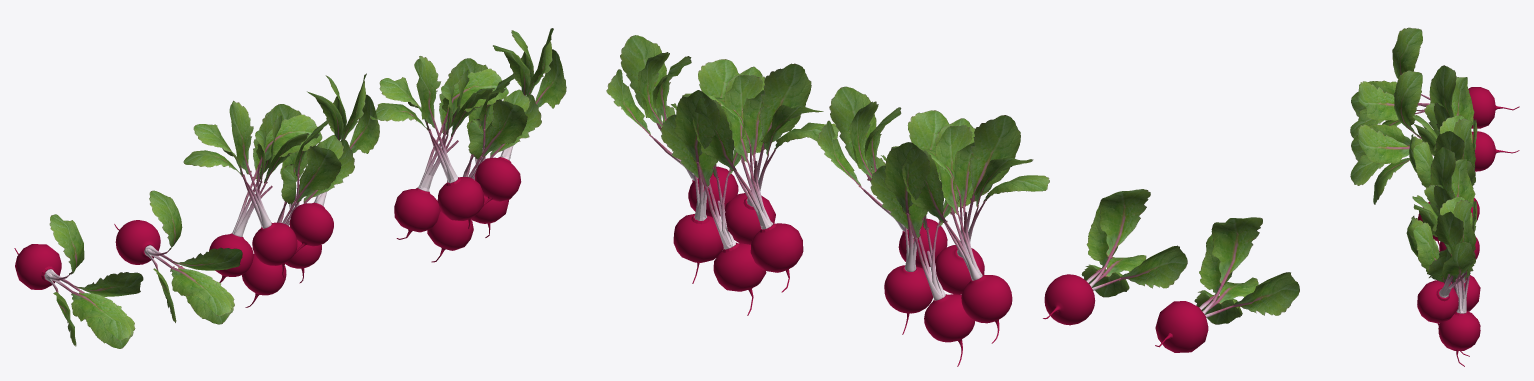
File: Radish.obj
3 renders of one model, left to right at view 1: azimuth 30°, elevation 25°; view 2: azimuth 150°, elevation 25°; view 3: azimuth 270°, elevation 25°, orthographic. The views are drawn at different scales.
Visible parts, largest first — view 1: Radish_07, Radish_01, Radish_12, Radish_03, Radish_04, Radish_08, Radish_10, Radish_06, Radish_11, Radish_02, Radish_09, Radish_05; view 2: Radish_07, Radish_01, Radish_11, Radish_02, Radish_03, Radish_12, Radish_09, Radish_05, Radish_10, Radish_06, Radish_04, Radish_08; view 3: Radish_01, Radish_07, Radish_10, Radish_09, Radish_08, Radish_03, Radish_12, Radish_06, Radish_11, Radish_04, Radish_02, Radish_05.
Boxes of the visible parts, left/top/right/bottom form: Radish_07: left=14, top=214, right=143, bottom=348; Radish_01: left=114, top=190, right=242, bottom=324; Radish_12: left=369, top=56, right=508, bottom=232; Radish_03: left=183, top=100, right=322, bottom=277; Radish_04: left=242, top=135, right=354, bottom=307; Radish_08: left=427, top=89, right=541, bottom=262; Radish_10: left=475, top=28, right=566, bottom=206; Radish_06: left=289, top=73, right=379, bottom=253; Radish_11: left=394, top=64, right=494, bottom=239; Radish_02: left=209, top=109, right=309, bottom=282; Radish_09: left=447, top=58, right=515, bottom=237; Radish_05: left=262, top=104, right=329, bottom=283; Radish_07: left=1155, top=217, right=1299, bottom=352; Radish_01: left=1043, top=189, right=1187, bottom=325; Radish_11: left=692, top=66, right=803, bottom=292; Radish_02: left=902, top=118, right=1012, bottom=343; Radish_03: left=891, top=115, right=1049, bottom=294; Radish_12: left=682, top=63, right=838, bottom=244; Radish_09: left=673, top=59, right=739, bottom=283; Radish_05: left=884, top=110, right=949, bottom=334; Radish_10: left=606, top=35, right=738, bottom=217; Radish_06: left=817, top=86, right=947, bottom=268; Radish_04: left=870, top=155, right=992, bottom=366; Radish_08: left=660, top=103, right=766, bottom=315; Radish_01: left=1350, top=70, right=1519, bottom=204; Radish_07: left=1350, top=27, right=1519, bottom=138; Radish_10: left=1417, top=196, right=1476, bottom=323; Radish_09: left=1413, top=200, right=1480, bottom=366; Radish_08: left=1406, top=216, right=1480, bottom=356; Radish_03: left=1428, top=65, right=1474, bottom=245; Radish_12: left=1429, top=147, right=1475, bottom=326; Radish_06: left=1418, top=115, right=1475, bottom=240; Radish_11: left=1412, top=184, right=1480, bottom=311; Radish_04: left=1409, top=134, right=1475, bottom=251; Radish_02: left=1412, top=102, right=1479, bottom=221; Radish_05: left=1414, top=119, right=1479, bottom=259.
Bounding box in the file's own units: 480 × 188 × 144.
